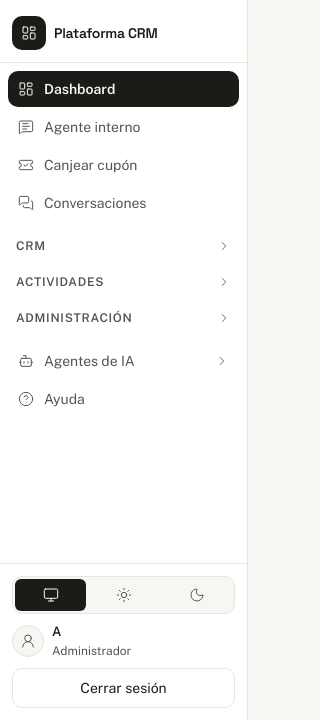
Test: AppLayout — nav gateado por rol (M7) › ADMIN ve los links de Usuarios e Invitaciones
The image size is (320, 720).
Click the button "Administración". click: [124, 312]
box: [8,295,239,329]
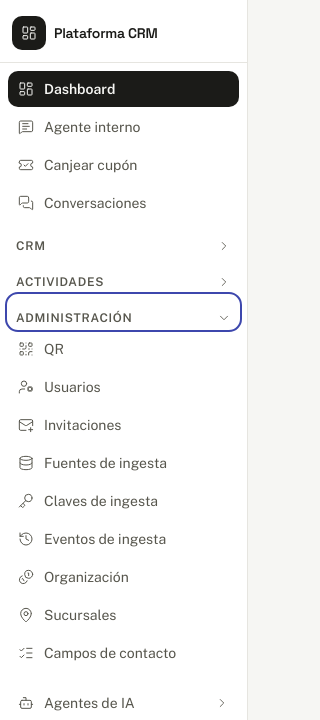
Expected: the link "Usuarios" is shown, [18,378,101,395]
Expected: the link "Invitaciones" is shown, [18,416,121,433]
